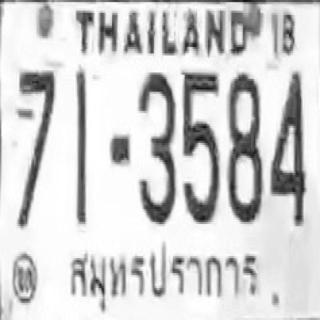N01: (75, 68, 87, 224)
N03: (137, 70, 176, 222)
N04: (270, 69, 306, 225)
N05: (182, 70, 219, 224)
N07: (15, 67, 55, 227)
N08: (227, 72, 262, 223)
P57: (66, 242, 262, 299)
